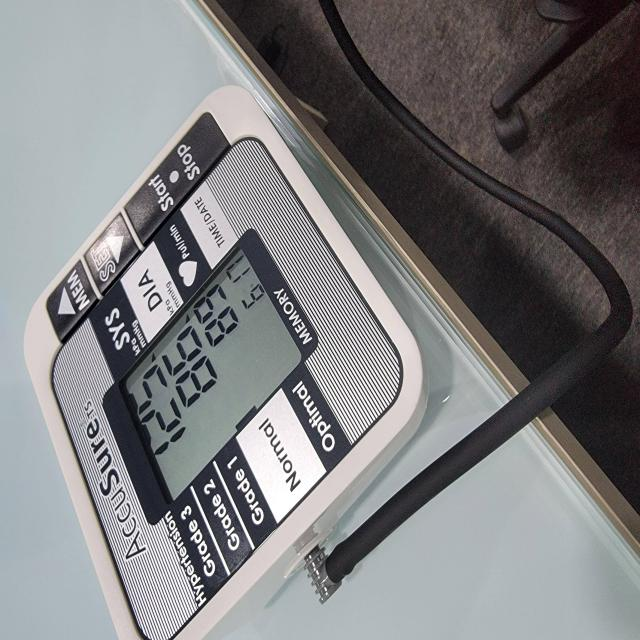bp: (23, 87, 640, 640)
